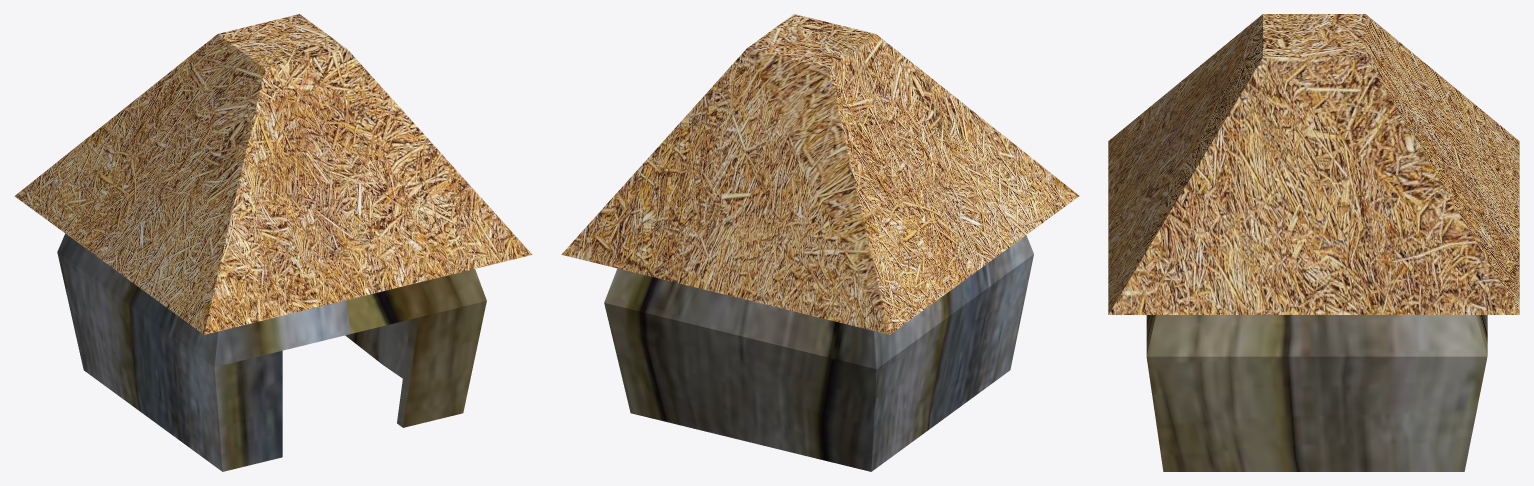
Rendered from VenandiCamp2.fbx.
3 views of the same model, side by side, from view 1: azimuth 30°, elevation 25°; view 2: azimuth 150°, elevation 25°; view 3: azimuth 270°, elevation 25° (orthographic). The views are drawn at different scales.
Visible parts, largest first — view 1: Cube.001, Cube; view 2: Cube.001, Cube; view 3: Cube.001, Cube.
Part boxes in pixels (left/top/right/bottom): Cube.001: left=14, top=14, right=532, bottom=334; Cube: left=57, top=233, right=486, bottom=471; Cube.001: left=561, top=14, right=1079, bottom=334; Cube: left=604, top=235, right=1033, bottom=471; Cube.001: left=1108, top=14, right=1519, bottom=314; Cube: left=1146, top=315, right=1487, bottom=471.
Size of the model in its own units: 2730 by 2764 by 2730.
